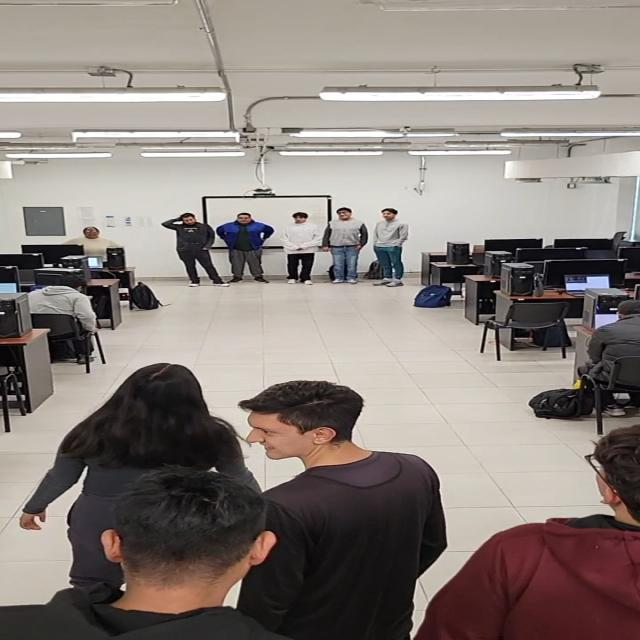Persona: (15, 362, 268, 586), (238, 380, 448, 640), (406, 424, 640, 640), (0, 467, 286, 639), (160, 212, 230, 288), (215, 213, 276, 284), (321, 207, 368, 284), (278, 212, 326, 286), (372, 208, 409, 288)
